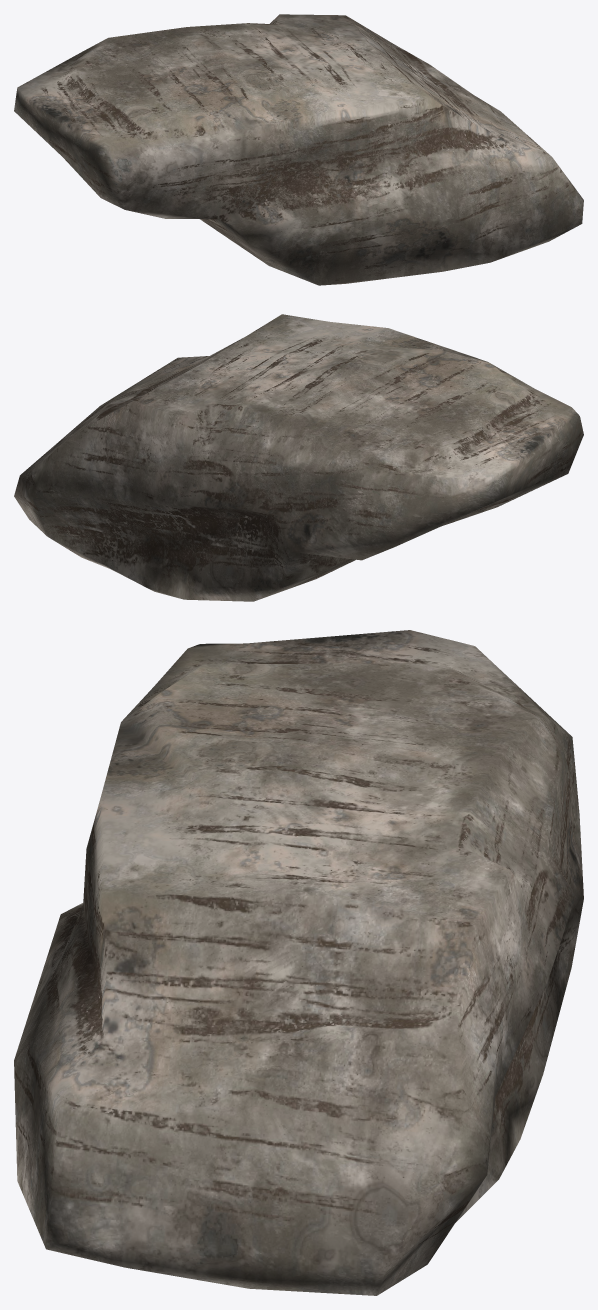
File: Rock_4.fbx
3 views of the same model, one above another, from view 1: azimuth 30°, elevation 25°; view 2: azimuth 150°, elevation 25°; view 3: azimuth 270°, elevation 25° (orthographic). The views are drawn at different scales.
Parts seen in each view (by area): view 1: Rock_4; view 2: Rock_4; view 3: Rock_4.
Boxes of the visible parts, x1=… form: Rock_4: x1=14, y1=14, x2=583, y2=285; Rock_4: x1=14, y1=314, x2=583, y2=601; Rock_4: x1=14, y1=630, x2=583, y2=1295.
Bounding box in the file's own units: 904 × 374 × 565.
Materials: 1 (1 with a texture image).
